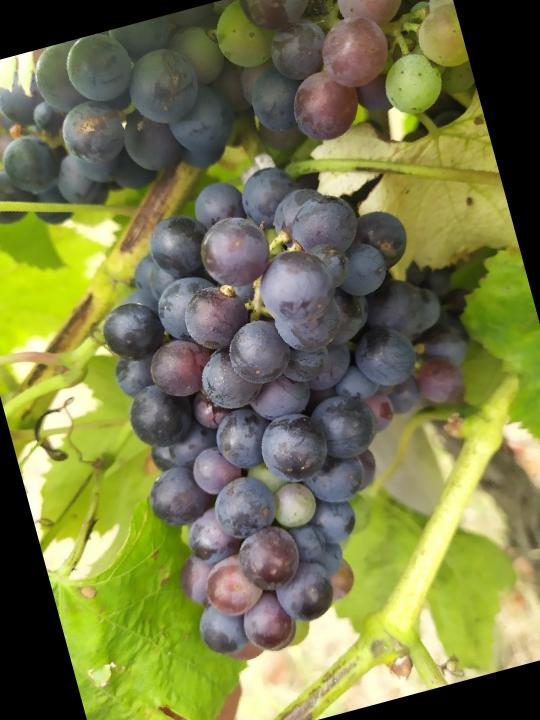grape: (63, 124, 527, 683)
